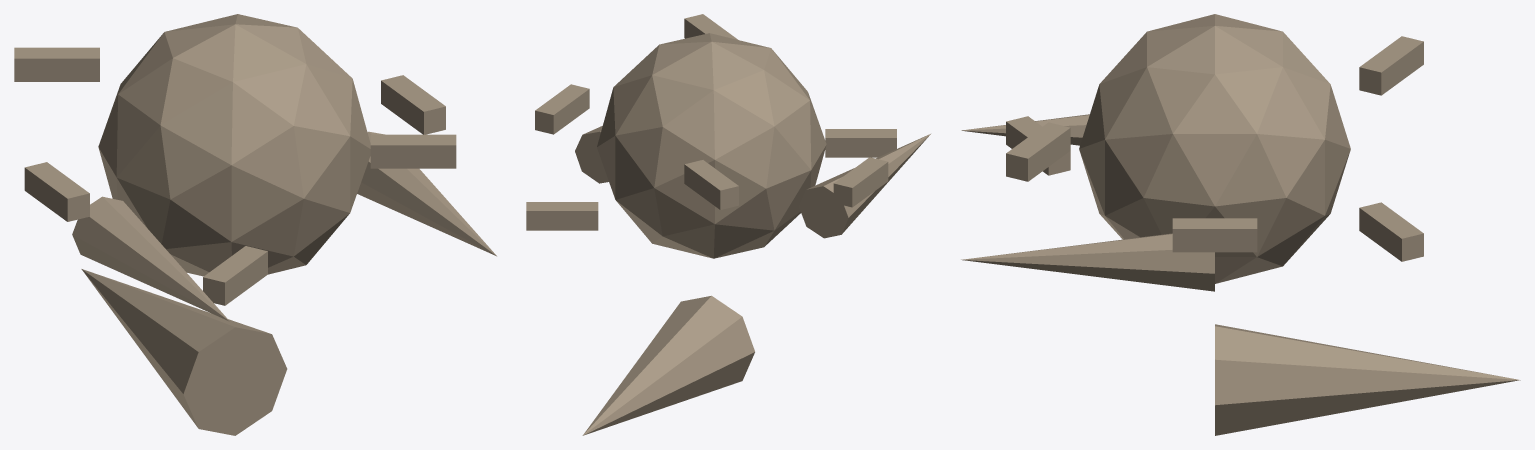
File: StoneAtronach_B_Boss.glb
3 views of the same model, side by side, from view 1: azimuth 30°, elevation 25°; view 2: azimuth 150°, elevation 25°; view 3: azimuth 270°, elevation 25° (orthographic). The views are drawn at different scales.
Visible parts, largest first — view 1: world; view 2: world; view 3: world.
Boxes of the visible parts, x1,y1,x2,y2 form: world: (14, 14, 496, 435); world: (526, 14, 930, 435); world: (961, 14, 1520, 435).
Size of the model in its own units: 2.55 by 2.65 by 3.3.
